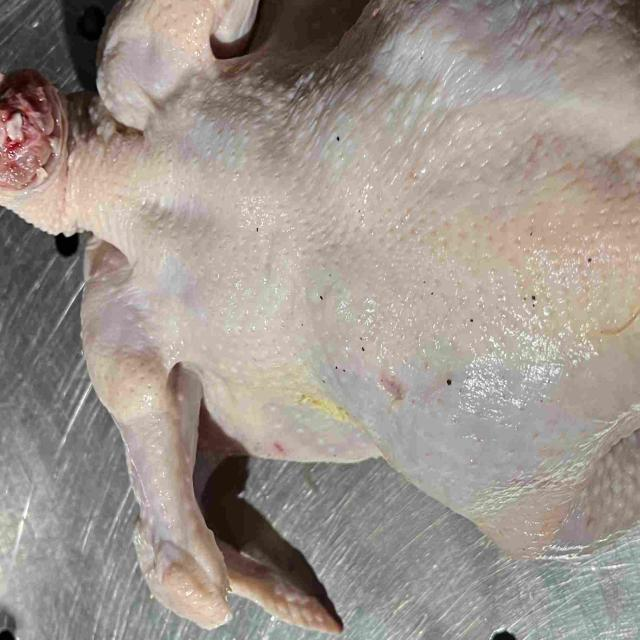back: (132, 78, 640, 468)
leg: (420, 399, 640, 562), (357, 0, 640, 112)
neck: (0, 68, 133, 242)
wing: (73, 282, 343, 640), (88, 0, 268, 122)
